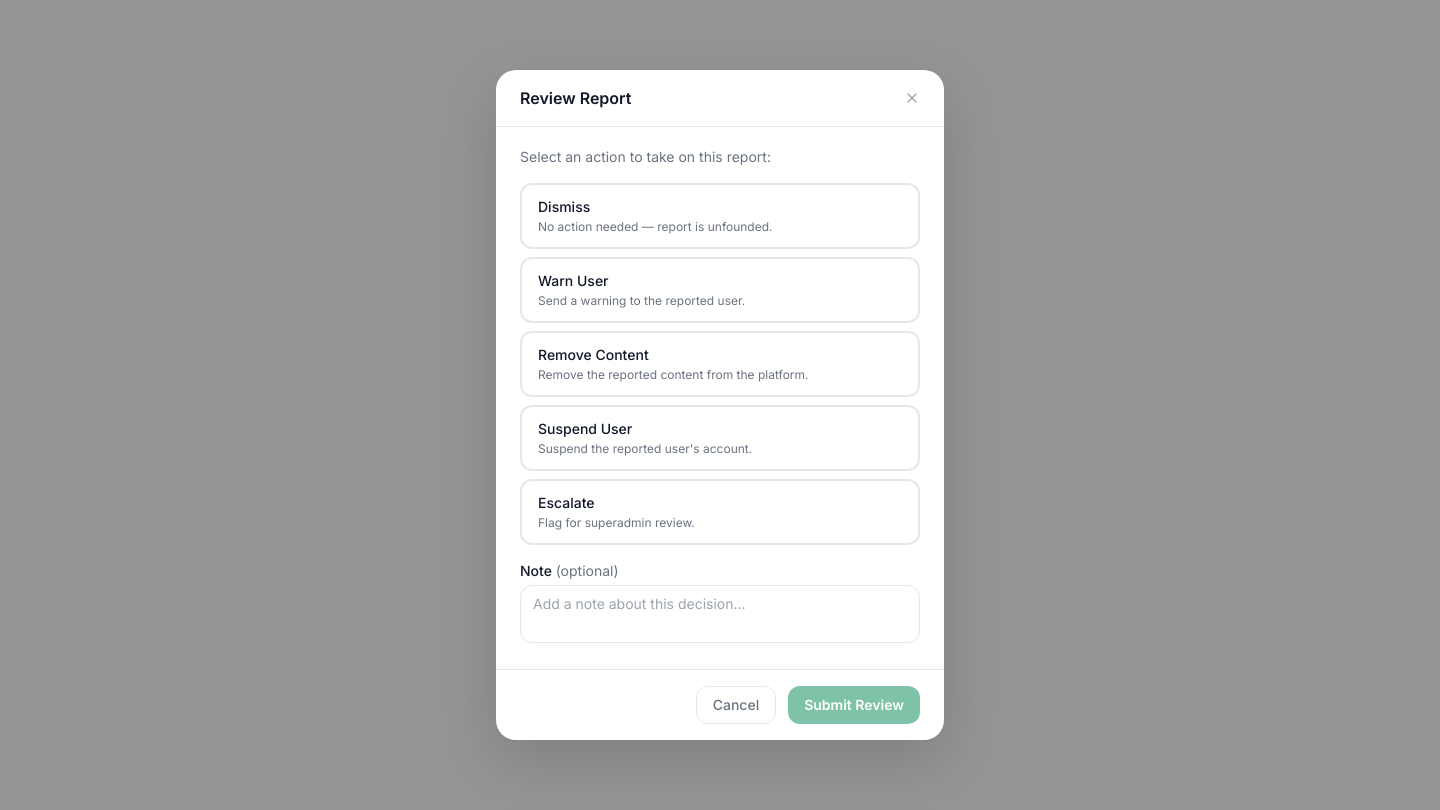
ReviewReportModal › enables submit button after selecting an action
Click the button "Dismiss No action needed — report is unfounded.".
click(720, 216)  # box [520,183,920,249]
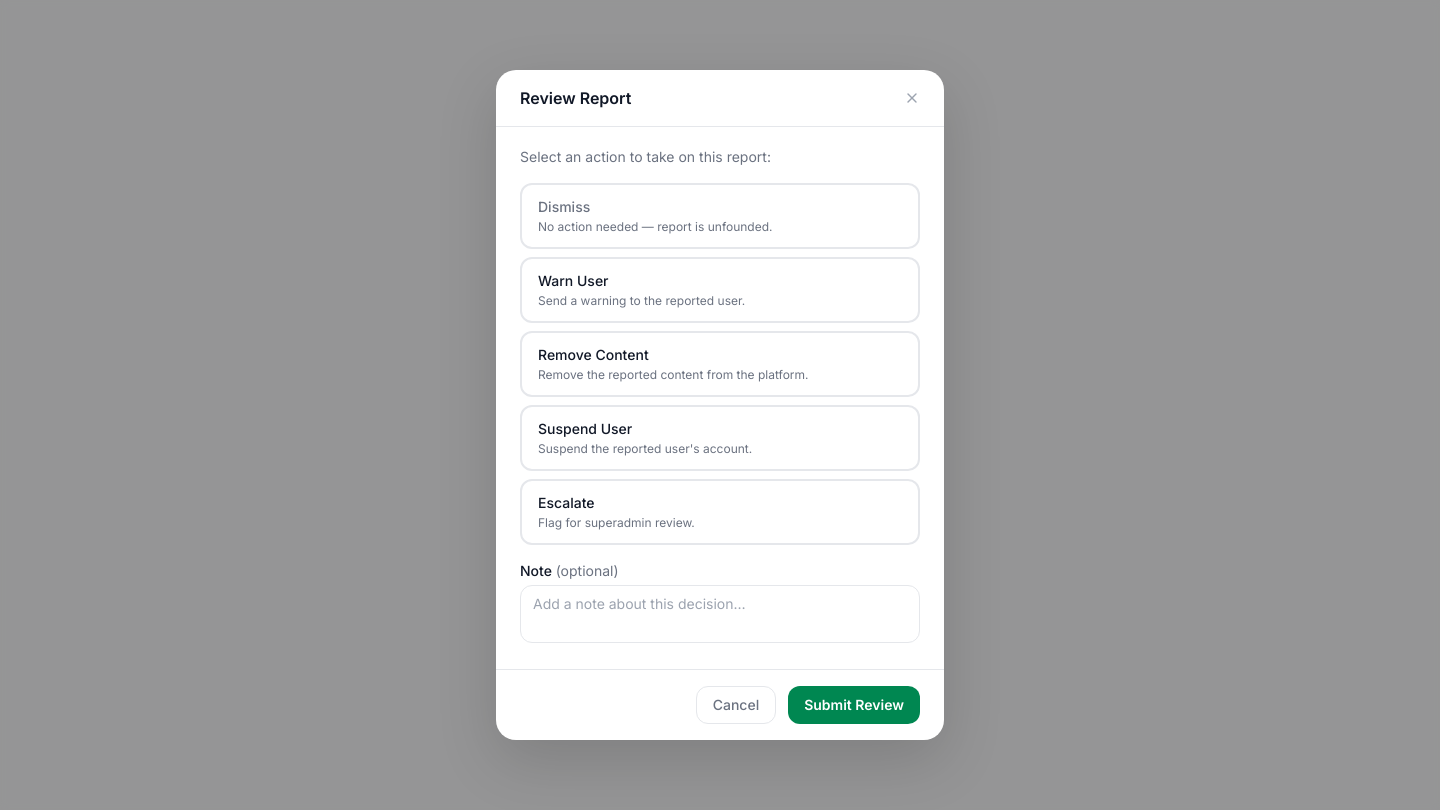
Check: the button with test id "review-confirm-btn" is enabled, box [788,686,920,724]
